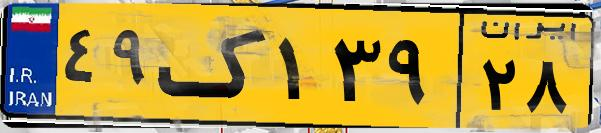1: (270, 28, 330, 110)
2: (475, 38, 525, 113)
3: (330, 28, 385, 110)
4: (57, 26, 110, 100)
8: (525, 38, 570, 115)
9: (385, 28, 445, 110), (110, 28, 158, 98)
ک: (158, 12, 270, 120)
